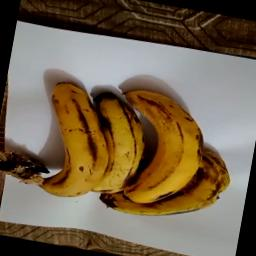Banana Unripe: (0, 69, 123, 204), (106, 85, 214, 212), (77, 86, 153, 206)
